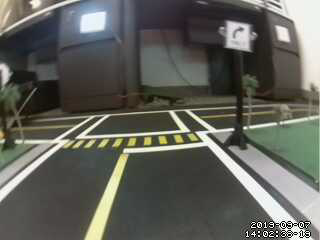Right_only_sign: (223, 20, 251, 54)
